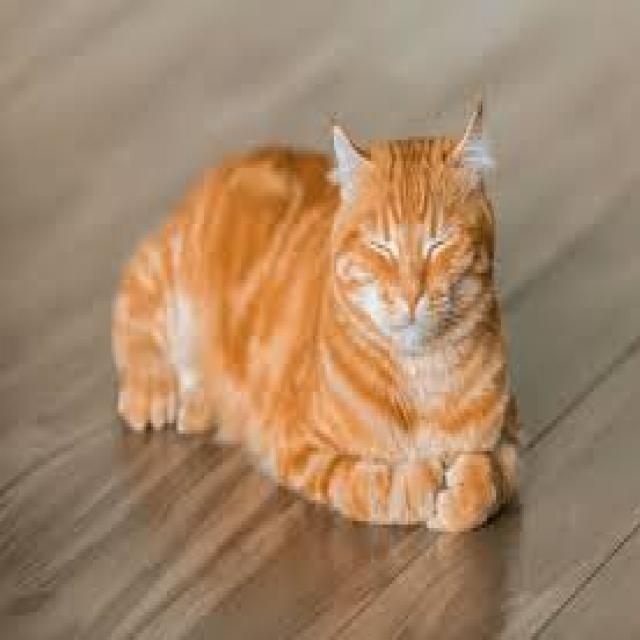cat-face: (285, 129, 553, 455)
